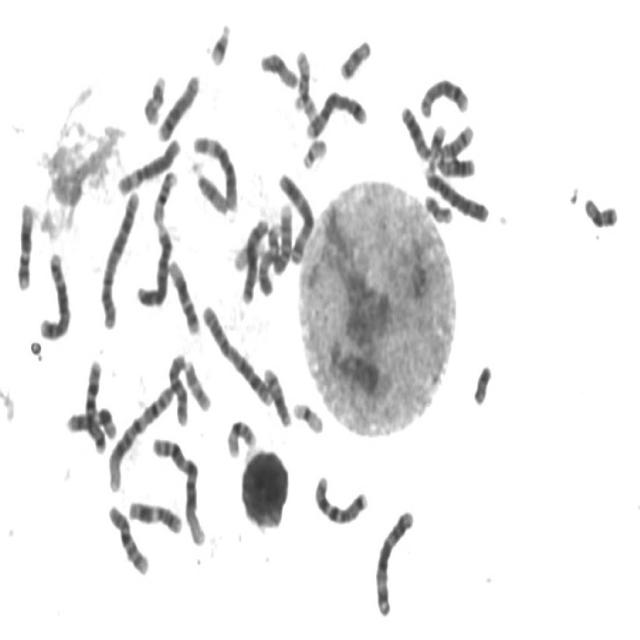A1: (105, 379, 176, 493), (150, 432, 208, 548)
A2: (199, 299, 274, 408), (96, 185, 142, 331)
A3: (371, 504, 416, 619), (278, 172, 316, 274)
B4: (421, 160, 491, 226), (134, 222, 174, 309)
B5: (303, 86, 369, 140), (36, 247, 72, 342)
C10: (105, 499, 151, 577), (164, 347, 190, 428)
C11: (125, 494, 184, 536), (63, 404, 118, 442)
C12: (165, 254, 202, 337), (13, 196, 37, 292)
C6: (114, 132, 183, 198), (190, 128, 239, 214)
C7: (310, 468, 370, 528), (82, 354, 107, 456)
C8: (154, 69, 202, 142), (417, 71, 471, 120)
C9: (256, 223, 286, 296), (271, 197, 294, 276)
D13: (398, 99, 432, 162), (433, 150, 476, 179)
D14: (260, 362, 293, 429), (436, 119, 476, 161)
D15: (188, 154, 231, 214), (257, 45, 300, 91)
E16: (151, 165, 179, 227), (224, 413, 258, 460)
E17: (181, 354, 213, 414), (140, 69, 168, 126)
E18: (336, 33, 373, 82), (580, 192, 620, 230)
F19: (230, 235, 268, 272), (290, 396, 325, 435)
F20: (289, 44, 321, 102), (420, 188, 454, 226)
G21: (206, 16, 233, 67), (425, 120, 447, 167)
G22: (299, 134, 329, 170), (291, 87, 320, 120)
X: (237, 216, 270, 316)
Y: (469, 358, 494, 407)
